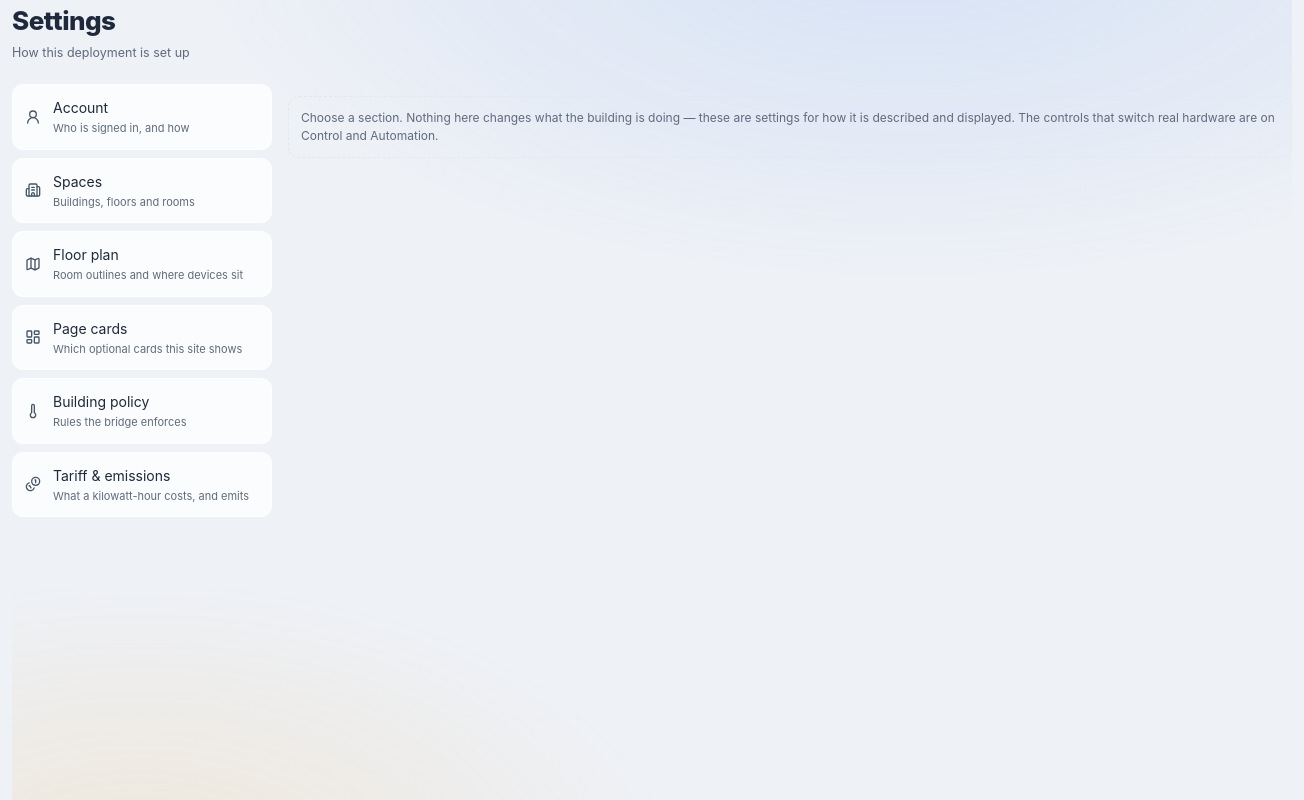
Test: SettingsPage › renders the moved panels without a Close button, because they are sections and not overlays
This screenshot has width=1304, height=800.
Click the text "Spaces": {"x": 78, "y": 181} [53, 172, 102, 190]
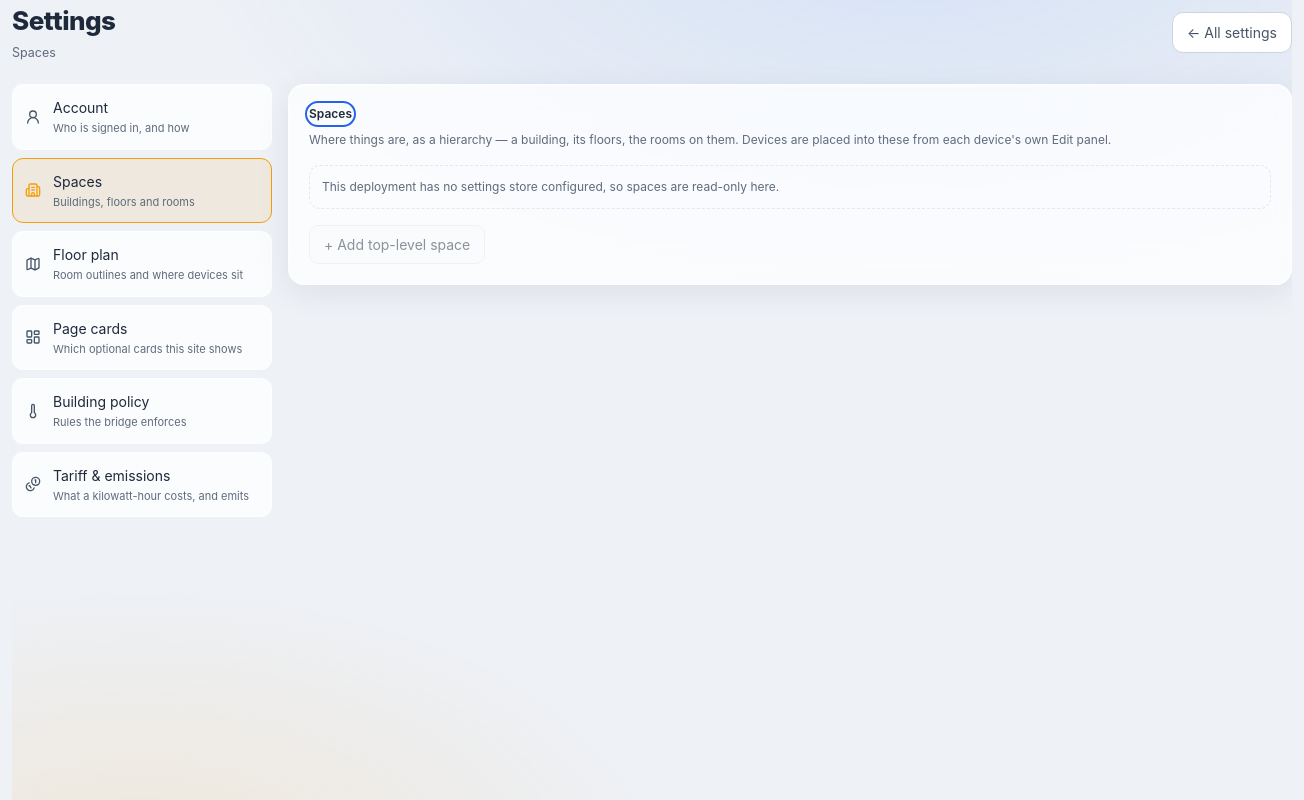
Expected: the heading "Spaces" is shown, [309, 105, 352, 123]
